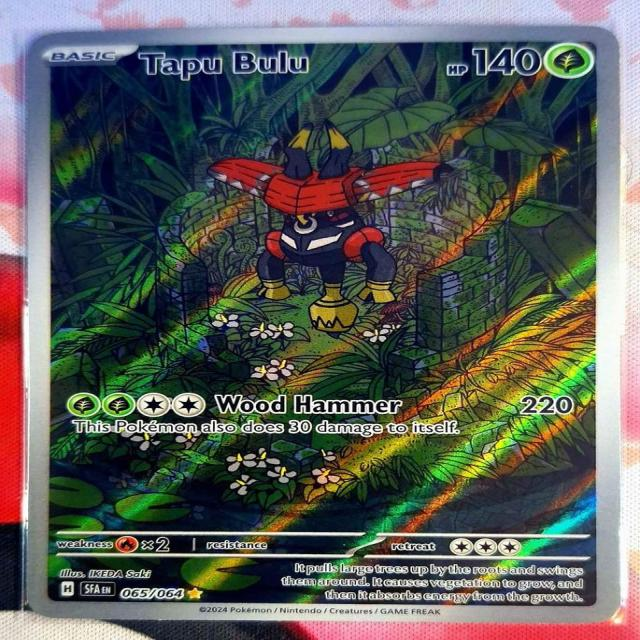card: (26, 24, 622, 622)
